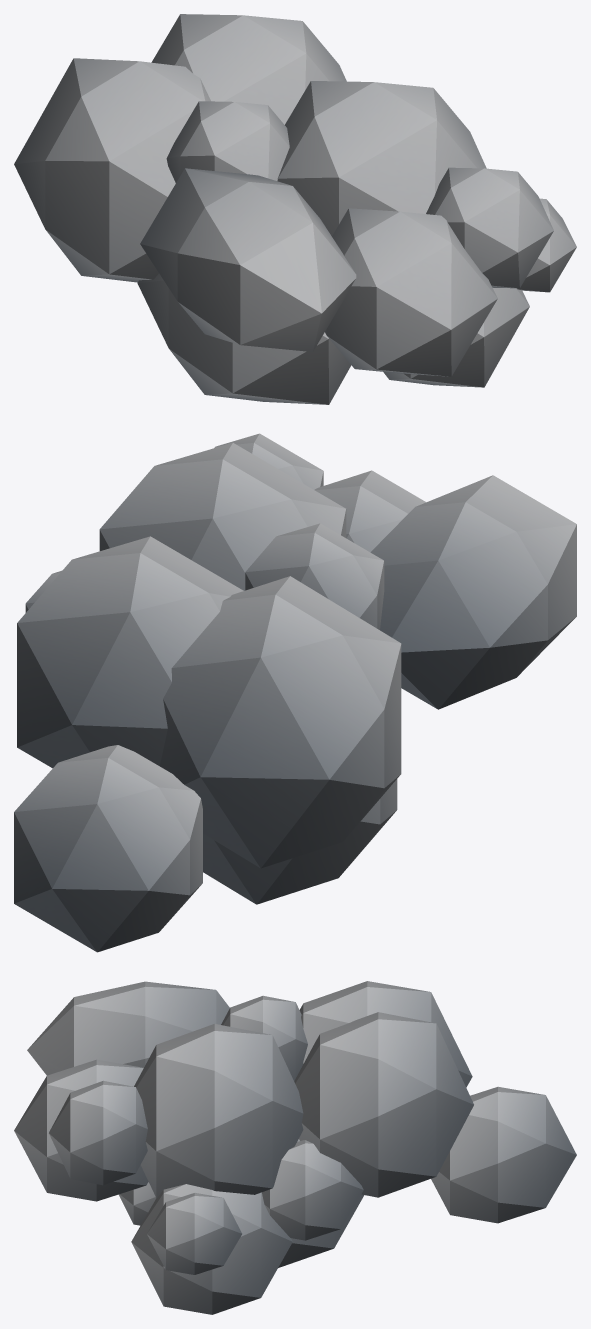
Rendered from nubes2.fbx.
The picture shows the model from 3 angles, top to bottom: view 1: azimuth 30°, elevation 25°; view 2: azimuth 150°, elevation 25°; view 3: azimuth 270°, elevation 25°; orthographic projection. The views are drawn at different scales.
Visible parts, largest first — view 1: nube2; view 2: nube2; view 3: nube2.
Boxes of the visible parts, bbox=[...] form: nube2: bbox=[14, 14, 576, 404]; nube2: bbox=[14, 433, 576, 952]; nube2: bbox=[14, 981, 576, 1314].
Size of the model in its own units: 1035 by 776 by 1499.
